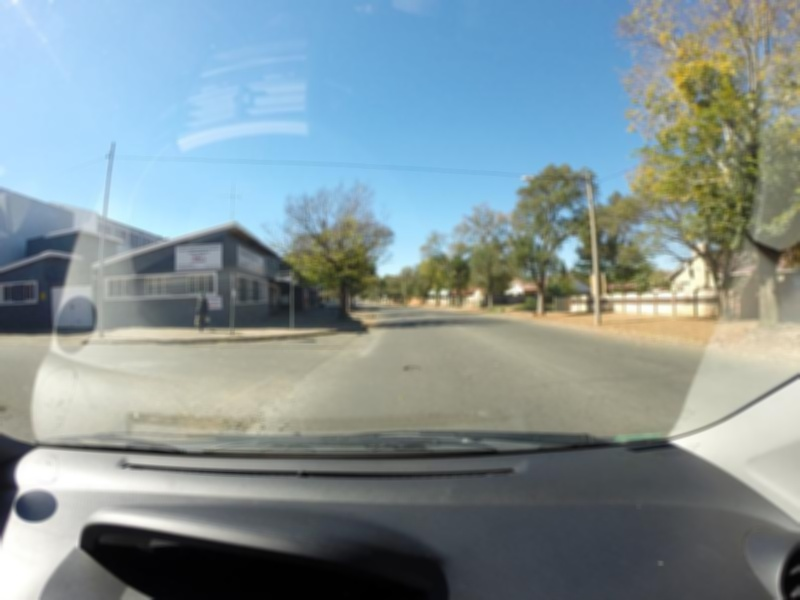pothole: (403, 358, 444, 376)
